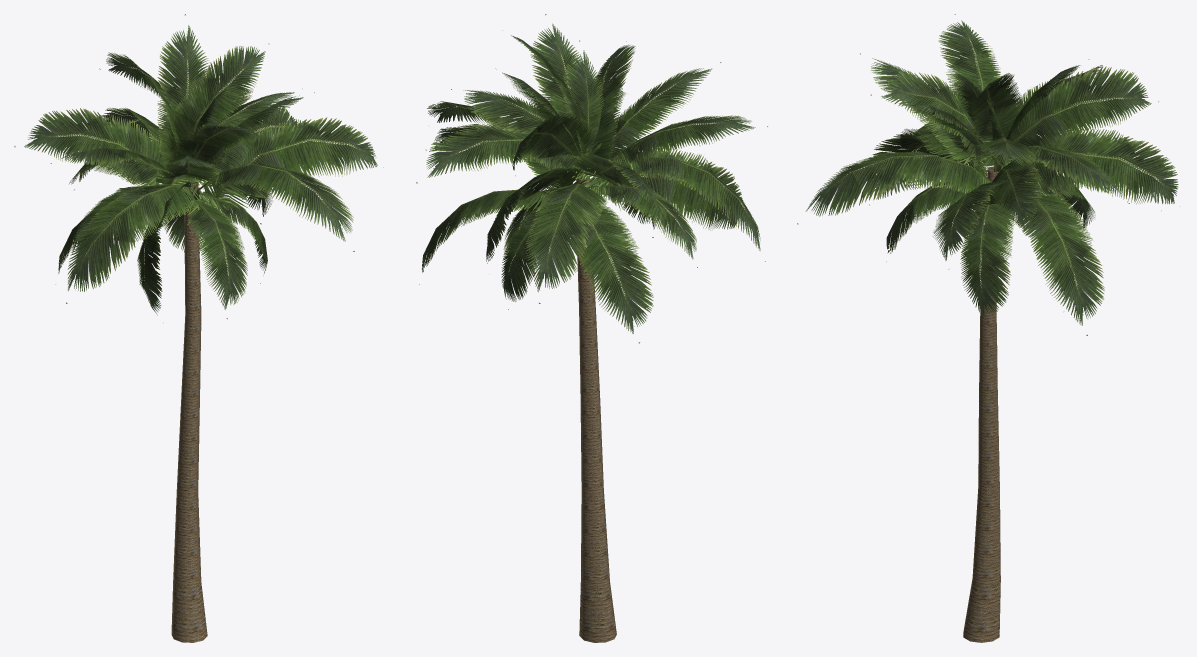
Rendered from Palm-03.fbx.
The picture shows the model from 3 angles, left to right: view 1: azimuth 30°, elevation 25°; view 2: azimuth 150°, elevation 25°; view 3: azimuth 270°, elevation 25°; orthographic projection. The views are drawn at different scales.
Visible parts, largest first — view 1: palm-03; view 2: palm-03; view 3: palm-03.
Part boxes in pixels (bbox=[...]): palm-03: bbox=[14, 14, 383, 642]; palm-03: bbox=[416, 14, 767, 642]; palm-03: bbox=[797, 14, 1178, 642].
Bounding box in the file's own units: 392 × 649 × 378.
